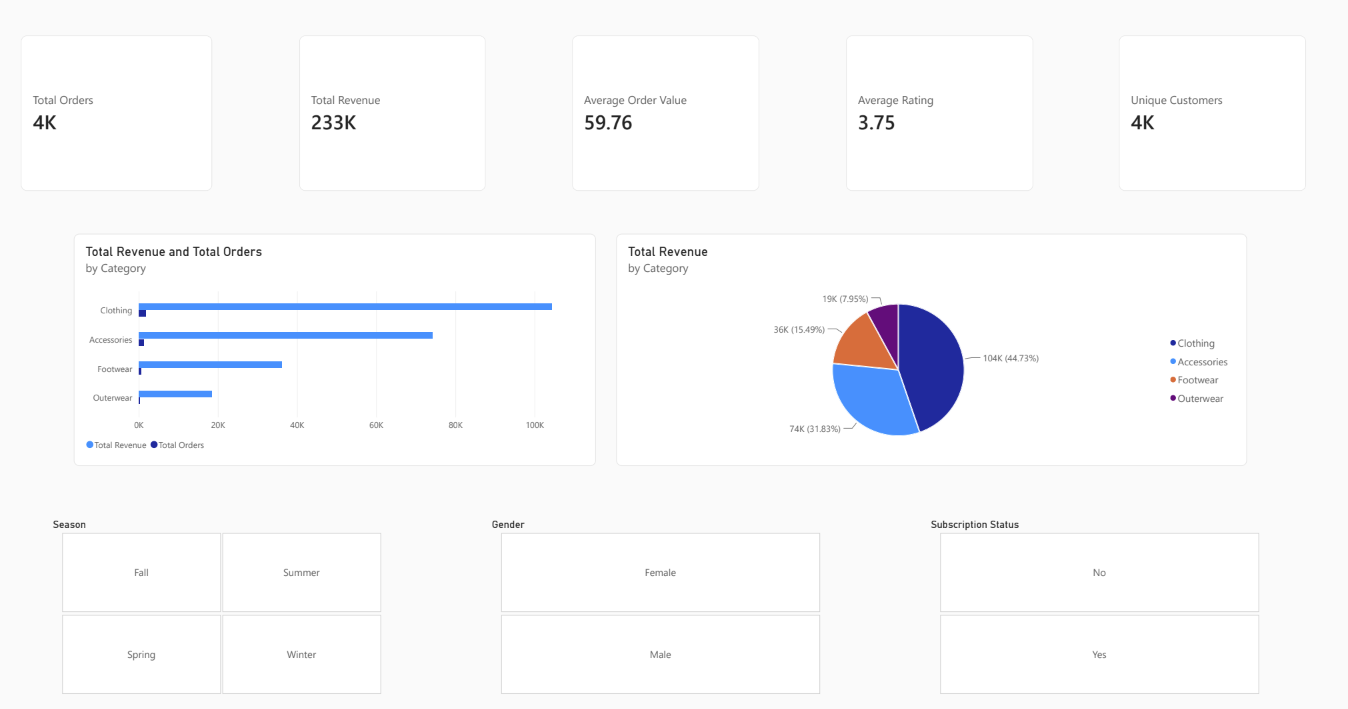

What the dashboard file says about the page in this screenshot:
{"tool":"powerbi","page":{"name":"Executive Overview","canvas":[1920,1080],"ordinal":0},"visuals":[{"type":"cardVisual","fields":{"Data":["customer_shopping_cleaned.Total Revenue"]},"box":[442.9,73.1,264.9,220.9],"z":0,"group":"g2"},{"type":"cardVisual","fields":{"Data":["customer_shopping_cleaned.Total Orders"]},"box":[49.2,73.2,271.1,220.8],"z":1000,"group":"g2"},{"type":"cardVisual","fields":{"Data":["customer_shopping_cleaned.Unique Customers"]},"box":[1605.8,73.1,265,221],"z":2000,"group":"g2"},{"type":"cardVisual","fields":{"Data":["customer_shopping_cleaned.Average Order Value"]},"box":[830.5,73.1,265,221],"z":3000,"group":"g2"},{"type":"cardVisual","fields":{"Data":["customer_shopping_cleaned.Average Rating"]},"box":[1218.1,73.1,265,221],"z":4000,"group":"g2"},{"type":"pieChart","fields":{"Category":["customer_shopping_cleaned.Category"],"Y":["customer_shopping_cleaned.Total Revenue"]},"box":[892.1,354.3,893.7,329.1],"z":5000,"group":"g1"},{"type":"slicer","fields":{"Values":["customer_shopping_cleaned.Season"]},"box":[86.5,757.1,491.7,249.7],"z":5000,"group":"g2"},{"type":"clusteredBarChart","fields":{"Category":["customer_shopping_cleaned.Category"],"Y":["customer_shopping_cleaned.Total Revenue","customer_shopping_cleaned.Total Orders"]},"box":[123.9,354.3,740,329.1],"z":6000,"group":"g1"},{"type":"group","id":"g1","title":"Group 1","box":[123.9,354.3,1661.9,329.1],"z":6000,"group":"g2"},{"type":"slicer","fields":{"Values":["customer_shopping_cleaned.Gender"]},"box":[709,757.1,491.7,249.7],"z":7000,"group":"g2"},{"type":"group","id":"g2","title":"Group 2","box":[49.2,73.1,1821.6,933.7],"z":7004},{"type":"slicer","fields":{"Values":["customer_shopping_cleaned.Subscription Status"]},"box":[1331.5,757.1,491.7,249.7],"z":8000,"group":"g2"}]}

Visuals, with their boxes on the page's 1920x1080 design canvas (x1, y1, x2, y2). These are canvas units, not pixel positions in the 1348x709 screenshot, which may show the page scaled, cropped or inside an application window:
cardVisual - customer_shopping_cleaned.Total Revenue: 443, 73, 708, 294
cardVisual - customer_shopping_cleaned.Total Orders: 49, 73, 320, 294
cardVisual - customer_shopping_cleaned.Unique Customers: 1606, 73, 1871, 294
cardVisual - customer_shopping_cleaned.Average Order Value: 830, 73, 1096, 294
cardVisual - customer_shopping_cleaned.Average Rating: 1218, 73, 1483, 294
pieChart - customer_shopping_cleaned.Category x customer_shopping_cleaned.Total Revenue: 892, 354, 1786, 683
slicer - customer_shopping_cleaned.Season: 86, 757, 578, 1007
clusteredBarChart - customer_shopping_cleaned.Category x customer_shopping_cleaned.Total Revenue: 124, 354, 864, 683
"Group 1" group: 124, 354, 1786, 683
slicer - customer_shopping_cleaned.Gender: 709, 757, 1201, 1007
"Group 2" group: 49, 73, 1871, 1007
slicer - customer_shopping_cleaned.Subscription Status: 1332, 757, 1823, 1007
